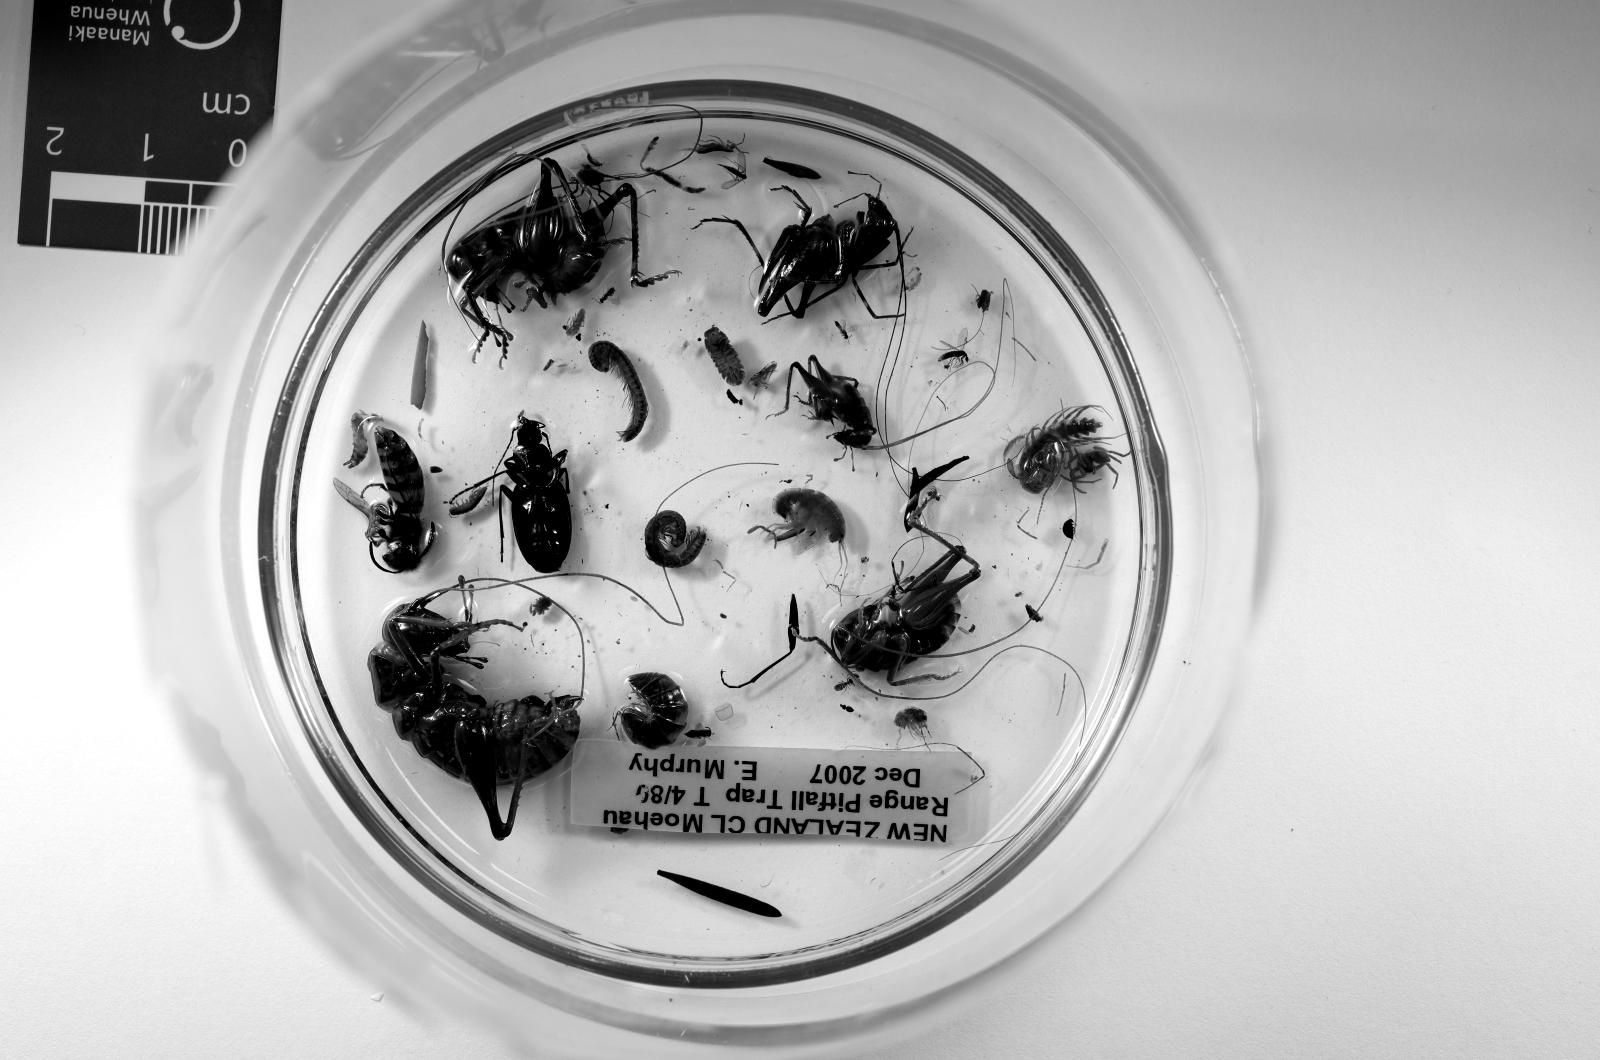amphipoda: (763, 487, 847, 552)
araneae: (1065, 444, 1128, 493)
carabidae: (497, 413, 572, 571)
chilopoda: (1012, 403, 1103, 493)
coleoptera: (1062, 518, 1075, 541), (840, 704, 855, 713)
collembola: (691, 137, 740, 155), (563, 308, 588, 338), (750, 363, 778, 388), (906, 267, 922, 292)
diplopoda: (588, 342, 647, 441), (643, 509, 706, 568)
diptera: (938, 329, 969, 369), (717, 153, 747, 189), (685, 724, 713, 745), (835, 319, 860, 338), (584, 149, 603, 170), (600, 286, 618, 304), (578, 140, 584, 146)
formicidae: (835, 677, 853, 692)
isopoda: (616, 671, 687, 749), (704, 327, 744, 386), (451, 485, 487, 516)
opiliones: (575, 164, 643, 199), (531, 596, 553, 615)
orthoptera: (369, 577, 584, 839), (443, 159, 675, 363), (799, 522, 982, 686), (700, 187, 903, 319), (764, 354, 940, 471)
vespidae: (335, 426, 438, 575)
